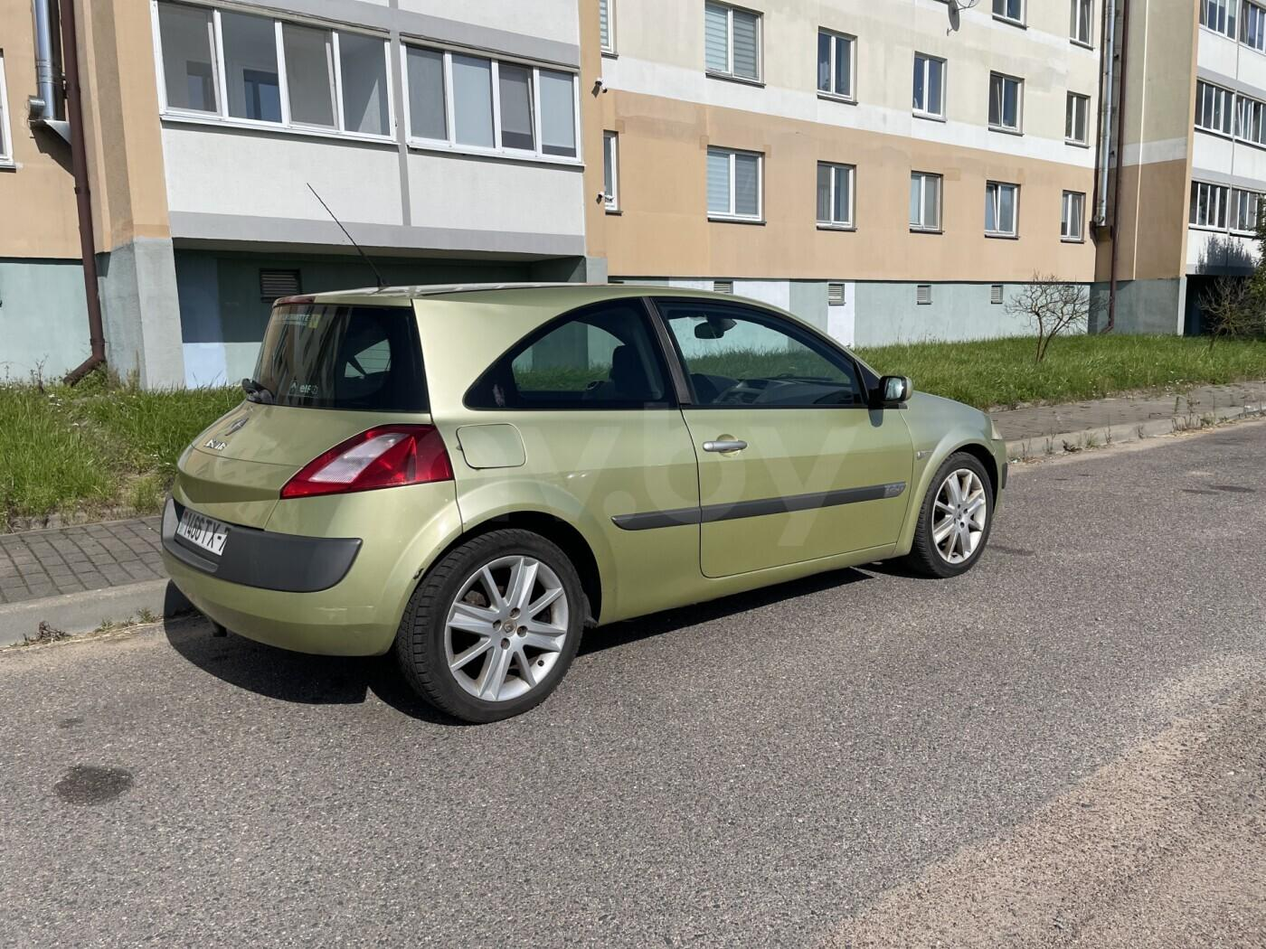Megane_2002-2006: (158, 271, 1014, 705)
